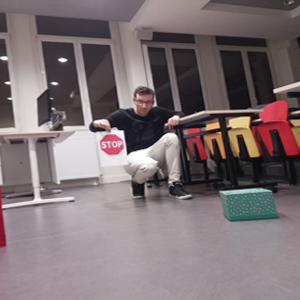small: (218, 187, 281, 223)
